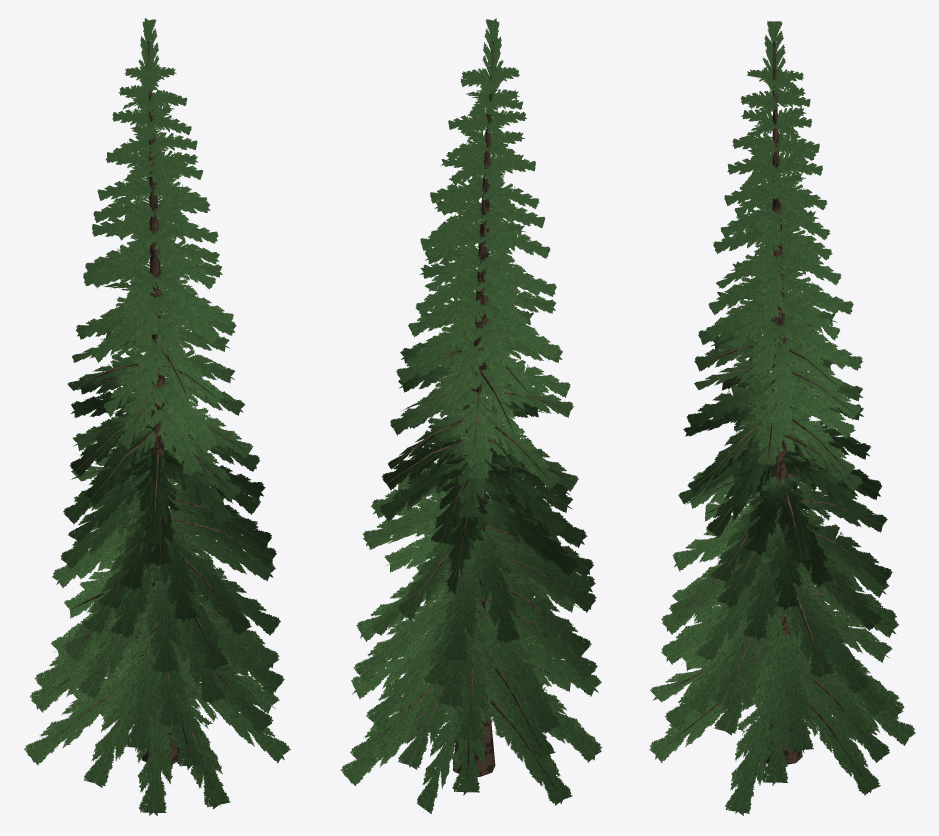
File: spruce1_lod0.fbx
3 views of the same model, side by side, from view 1: azimuth 30°, elevation 25°; view 2: azimuth 150°, elevation 25°; view 3: azimuth 270°, elevation 25° (orthographic). The views are drawn at different scales.
Parts seen in each view (by area): view 1: spruce1_lod0; view 2: spruce1_lod0; view 3: spruce1_lod0.
Part boxes in pixels (x1,y1,x2,y2): spruce1_lod0: [24, 18, 290, 815]; spruce1_lod0: [340, 18, 602, 813]; spruce1_lod0: [649, 21, 915, 815].
Size of the model in its own units: 6.37 by 19.03 by 6.54.
2 materials, 2 textured.
